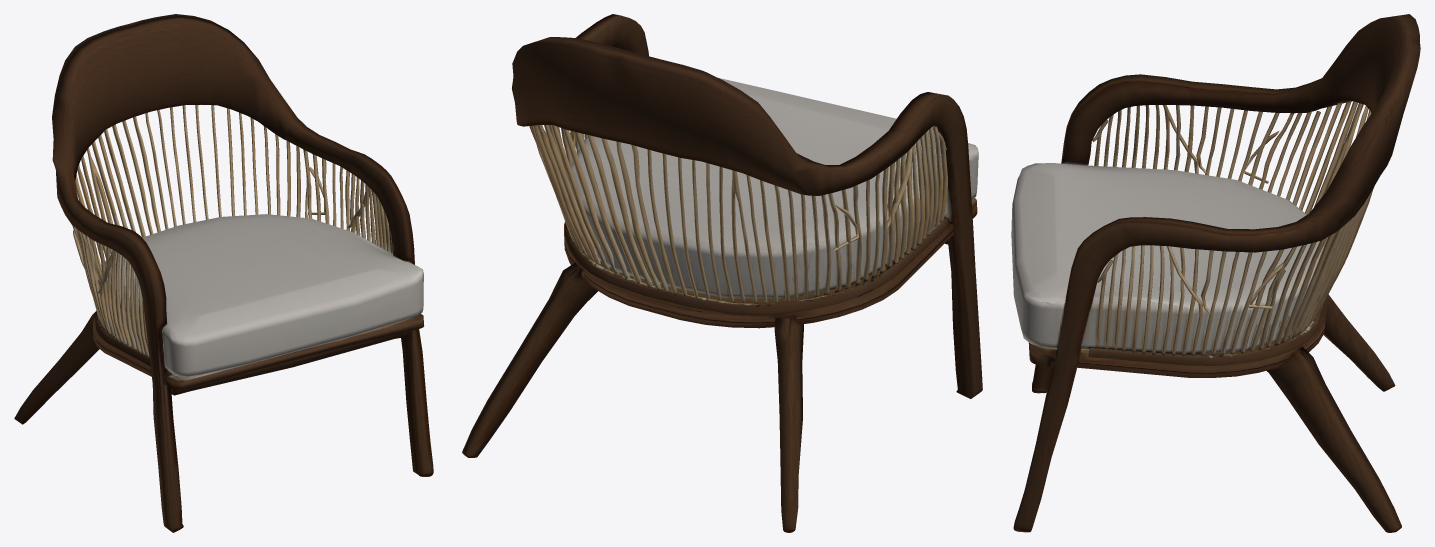
The model's file is cane-back-armchair.glb.
The picture shows the model from 3 angles, left to right: view 1: azimuth 30°, elevation 25°; view 2: azimuth 150°, elevation 25°; view 3: azimuth 270°, elevation 25°; orthographic projection. The views are drawn at different scales.
Visible parts, largest first — view 1: tripo_node_7fe1bb1e-de85-4ae9-aff7-4b09d08780e7; view 2: tripo_node_7fe1bb1e-de85-4ae9-aff7-4b09d08780e7; view 3: tripo_node_7fe1bb1e-de85-4ae9-aff7-4b09d08780e7.
Part boxes in pixels (x1,y1,x2,y2): tripo_node_7fe1bb1e-de85-4ae9-aff7-4b09d08780e7: (14, 14, 433, 532); tripo_node_7fe1bb1e-de85-4ae9-aff7-4b09d08780e7: (462, 14, 982, 532); tripo_node_7fe1bb1e-de85-4ae9-aff7-4b09d08780e7: (1011, 14, 1420, 532).
Bounding box in the file's own units: 0.7935 × 0.9995 × 0.8853.
Materials: 1 (1 with a texture image).
